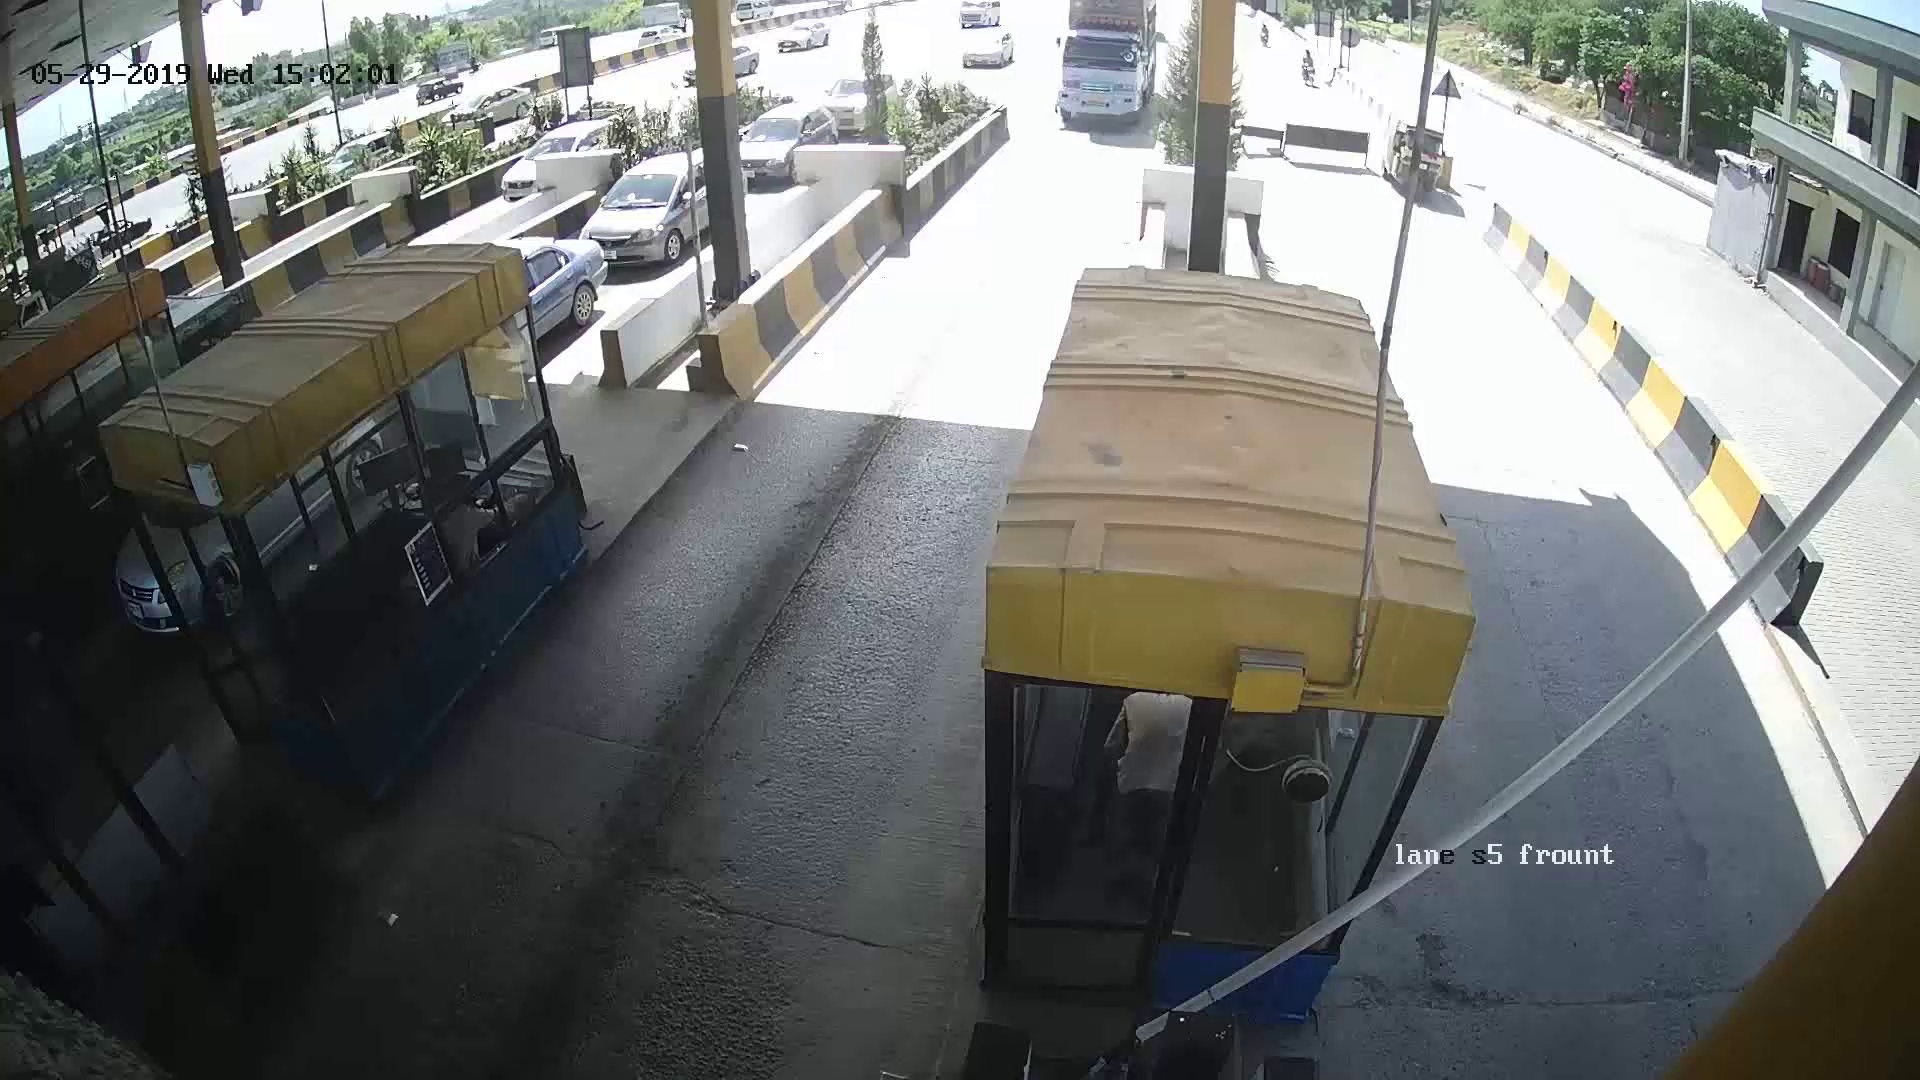truck: (1058, 3, 1160, 167)
